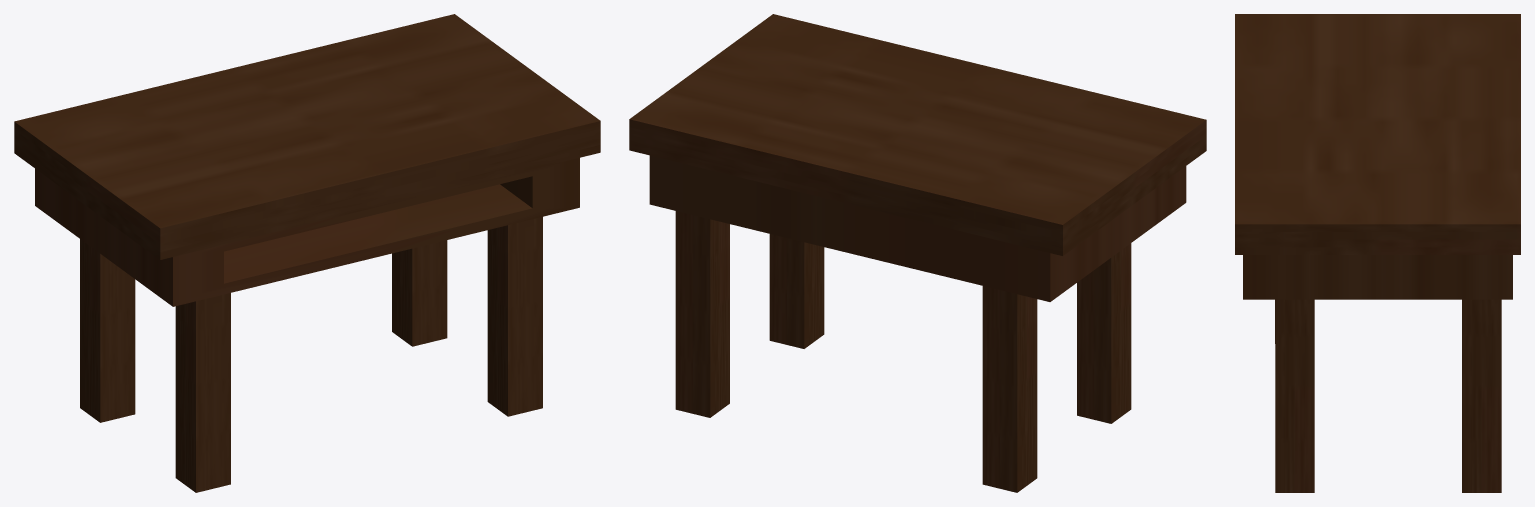
File: desk.fbx
3 renders of one model, left to right at view 1: azimuth 30°, elevation 25°; view 2: azimuth 150°, elevation 25°; view 3: azimuth 270°, elevation 25°, orthographic. The views are drawn at different scales.
Visible parts, largest first — view 1: Cube; view 2: Cube; view 3: Cube.
Part boxes in pixels (x1,y1,x2,y2): Cube: (14, 14, 600, 492); Cube: (629, 14, 1206, 492); Cube: (1235, 14, 1520, 492).
Size of the model in its own units: 161 by 103 by 92.75.
Materials: 1 (1 with a texture image).
